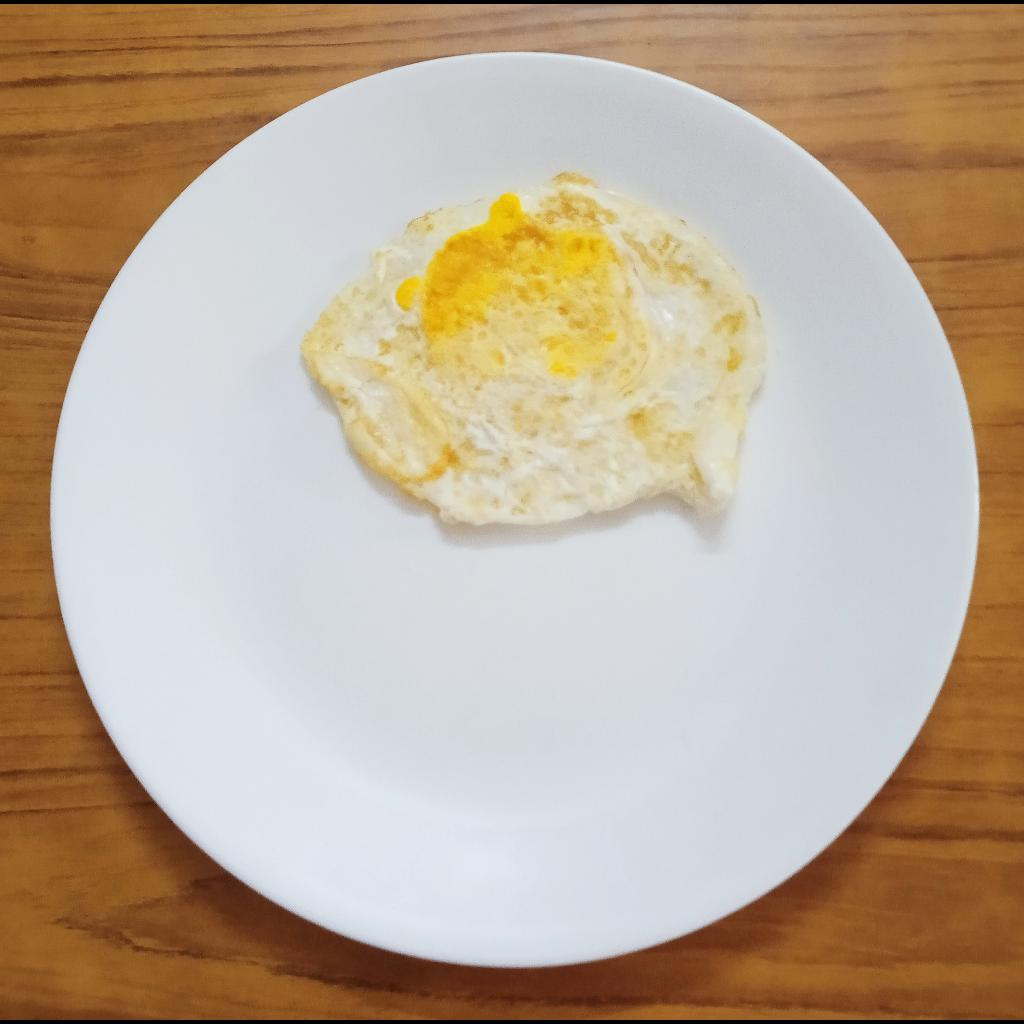egg-poached: (297, 167, 767, 527)
